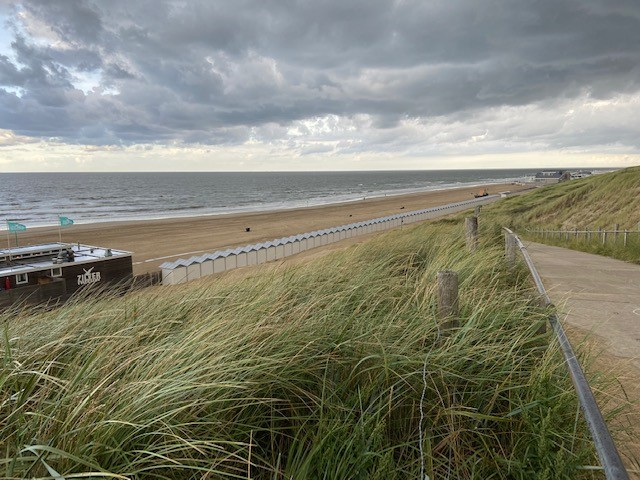zilvermeeuw: (1, 236, 139, 314)
